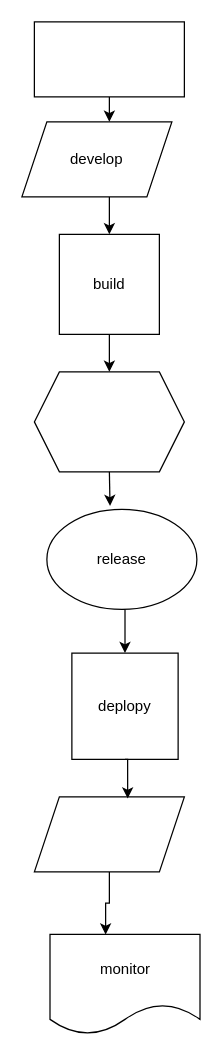
This 223x1056 diagram has some shape labels left out. The shapes that lost their labels are listed below. From the top down, each one's centre as x and y in pixels, then its label:
At (x=108, y=59): "plan".
At (x=108, y=421): "test".
At (x=108, y=834): "operate".
